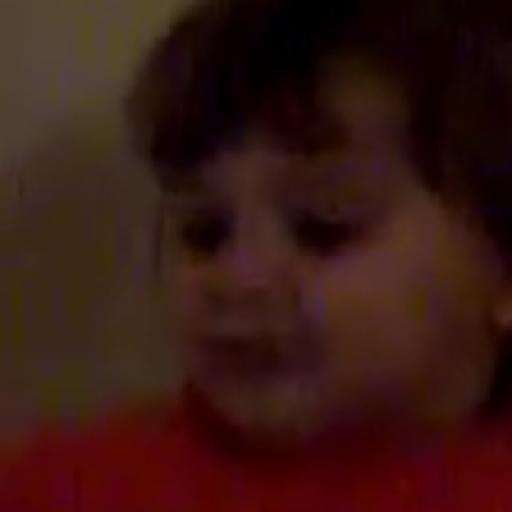Autism: (122, 14, 512, 460)
